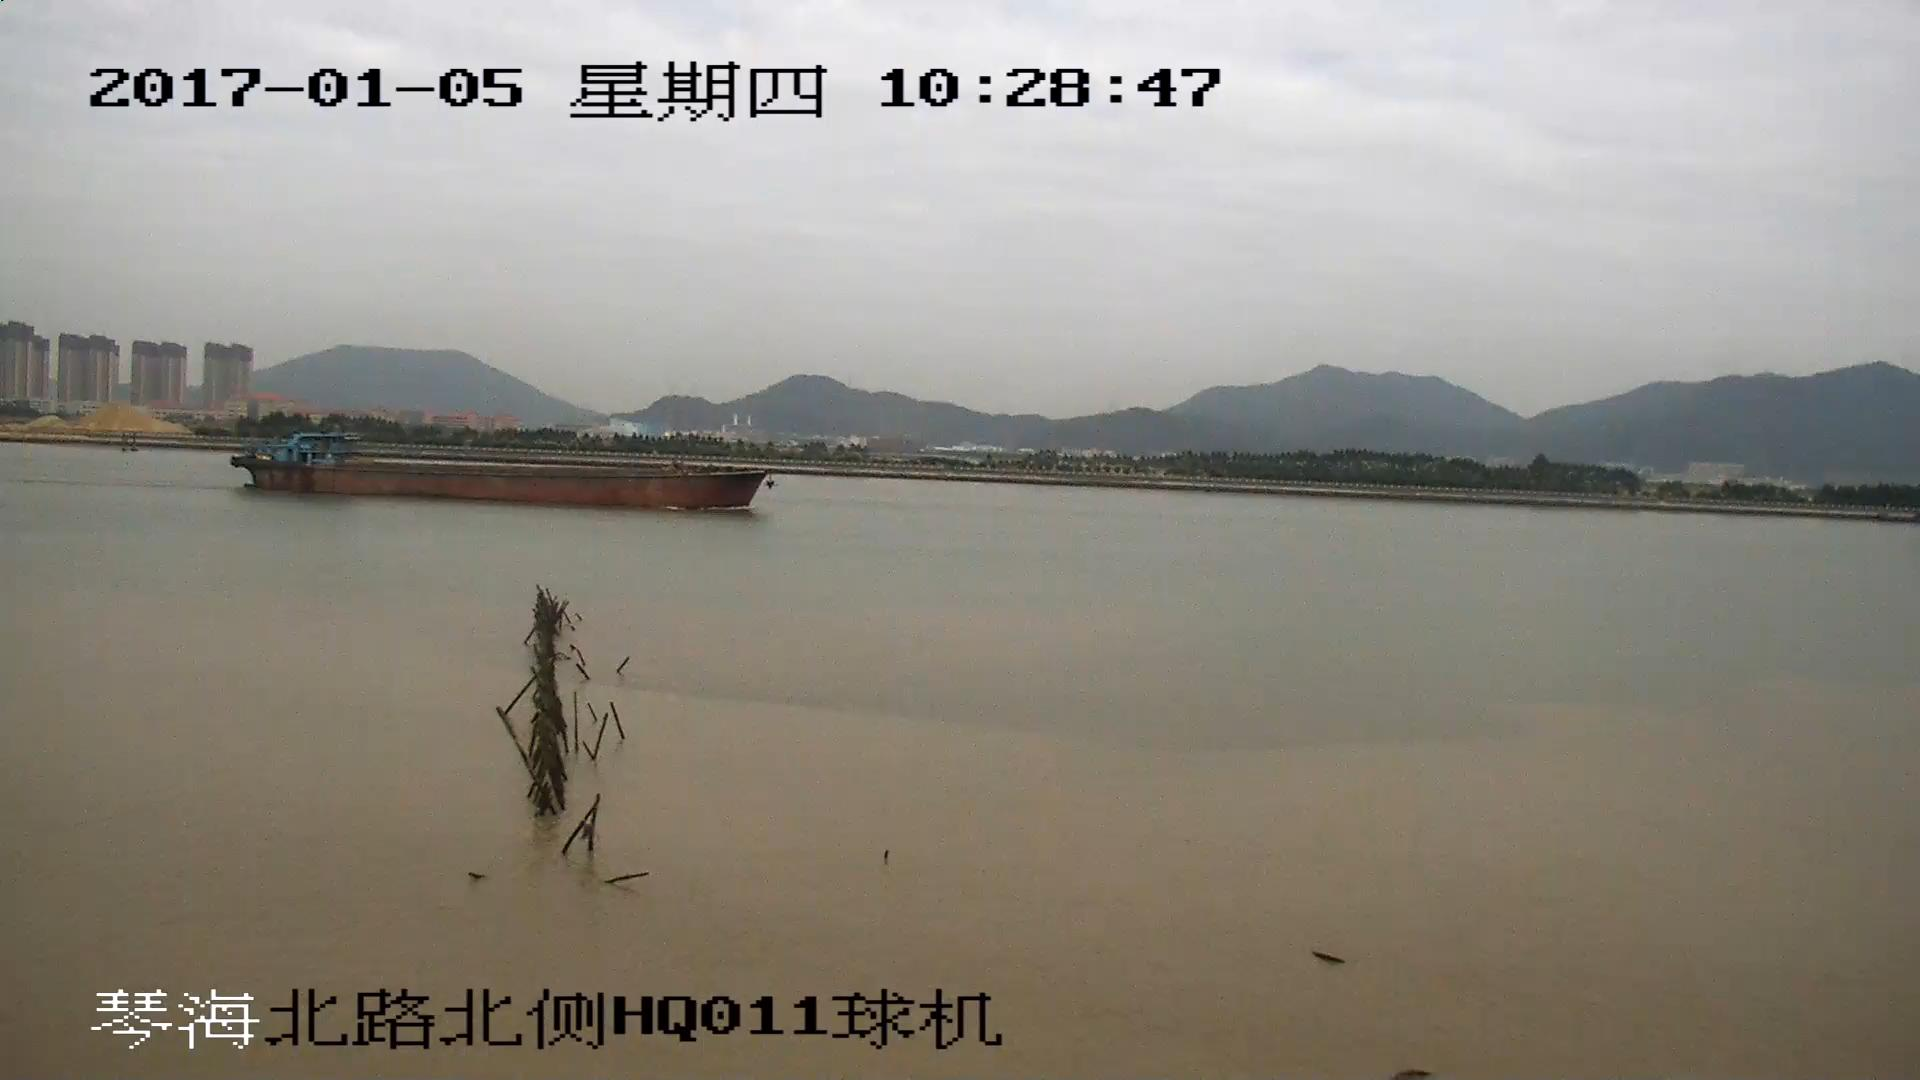bulk cargo carrier: (229, 432, 775, 510)
